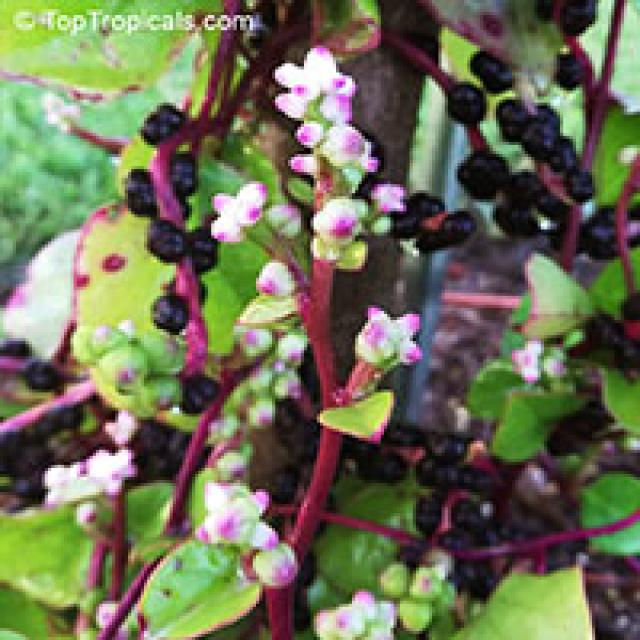Medicinal-Basale: (96, 27, 604, 588)
